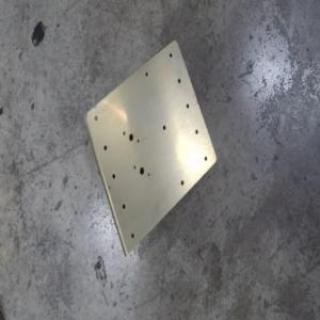MetalSheettrack_idkeyframe: (80, 36, 216, 259)
